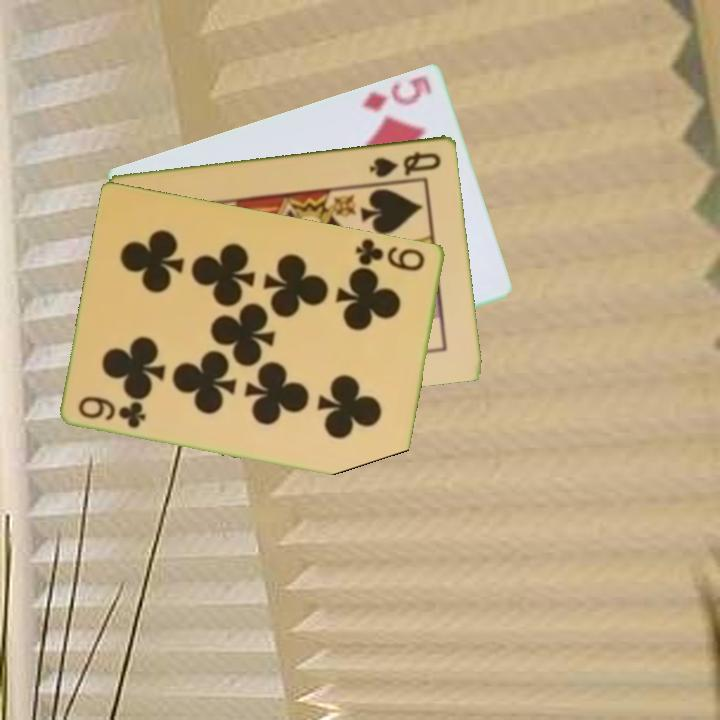5d: (359, 71, 435, 115)
9c: (352, 234, 428, 274), (75, 392, 150, 431)
Qs: (366, 147, 445, 180)
